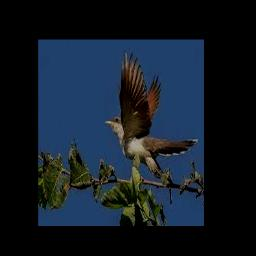Cuckoo: (104, 49, 198, 176)
